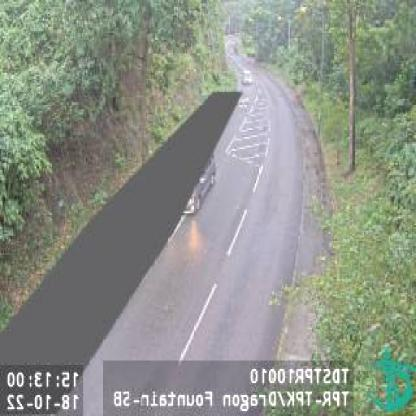Car: (239, 68, 254, 86)
